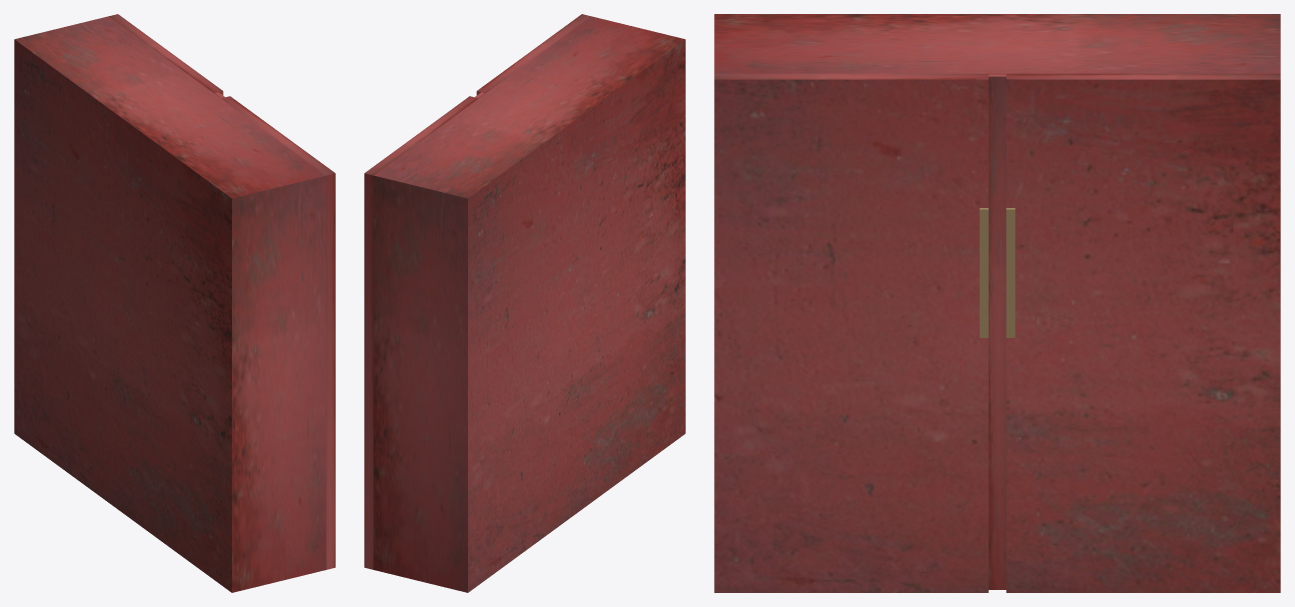
File: closet.fbx
3 renders of one model, left to right at view 1: azimuth 30°, elevation 25°; view 2: azimuth 150°, elevation 25°; view 3: azimuth 270°, elevation 25°, orthographic. The views are drawn at different scales.
Visible parts, largest first — view 1: closet, closet_door; view 2: closet, closet_door; view 3: closet_door, closet.
Boxes of the visible parts, x1=… form: closet: x1=14, y1=16, x2=326, y2=592; closet_door: x1=109, y1=14, x2=335, y2=569; closet: x1=373, y1=16, x2=685, y2=592; closet_door: x1=364, y1=14, x2=590, y2=569; closet_door: x1=714, y1=73, x2=1280, y2=592; closet: x1=714, y1=14, x2=1280, y2=73.
Bounding box in the file's own units: 56.25 × 200 × 200.
